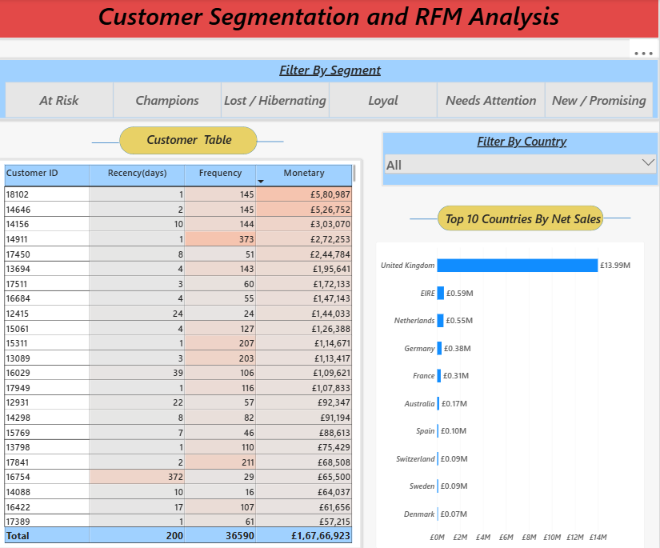

Layout of this report page (visuals, bound fields, positions):
{"tool":"powerbi","page":{"name":"Customer Explorer","canvas":[2400,2000],"ordinal":3},"visuals":[{"type":"textbox","box":[0,0,2399.5,145],"z":0},{"type":"shape","box":[438.2,466,501,101.1],"z":1000},{"type":"textbox","box":[496.6,483.4,391.1,74.7],"z":2000},{"type":"shape","box":[337.6,499.6,100,47],"z":3000},{"type":"shape","box":[935.2,495.2,100,47],"z":4000},{"type":"shape","box":[1594.9,753.6,602.1,92.3],"z":5000},{"type":"textbox","box":[1612.9,769.1,584.5,70.3],"z":6000},{"type":"shape","box":[2197.3,764.7,100,65.9],"z":7000},{"type":"shape","box":[1494.2,773.5,100,55.4],"z":8000},{"type":"slicer","title":"Filter By Segment","fields":{"Values":["Segmentation.Segment"]},"box":[0,219.7,2399.5,219.7],"z":10000},{"type":"tableEx","fields":{"Values":["Customers.Customer ID","Avg(Customers.Recency)","Sum(Customers.Frequency)","Sum(Customers.Monetary)"]},"box":[0,584.5,1318.4,1415.1],"z":11000},{"type":"slicer","title":"Filter By Country","fields":{"Values":["Sales.Country"]},"box":[1393.1,483.4,1006.4,197.8],"z":12000},{"type":"clusteredBarChart","fields":{"Category":["Sales.Country"],"Y":["Sum(Sales.TotalPrice)"]},"box":[1371.1,883.3,975.6,1116.3],"z":13000}]}

Visuals, with their boxes in screenshot pixels (x1, y1, x2, y2), scaled from the page's 2400x2000 canvas onto the 660x548 screenshot:
textbox: l=0, t=0, r=659, b=40
shape: l=121, t=128, r=258, b=155
textbox: l=137, t=132, r=244, b=153
shape: l=93, t=137, r=120, b=150
shape: l=257, t=136, r=285, b=149
shape: l=439, t=206, r=604, b=232
textbox: l=444, t=211, r=604, b=230
shape: l=604, t=210, r=632, b=228
shape: l=411, t=212, r=438, b=227
"Filter By Segment" slicer: l=0, t=60, r=659, b=120
tableEx - Customers.Customer ID x Avg(Customers.Recency): l=0, t=160, r=363, b=547
"Filter By Country" slicer: l=383, t=132, r=659, b=187
clusteredBarChart - Sales.Country x Sum(Sales.TotalPrice): l=377, t=242, r=645, b=547
